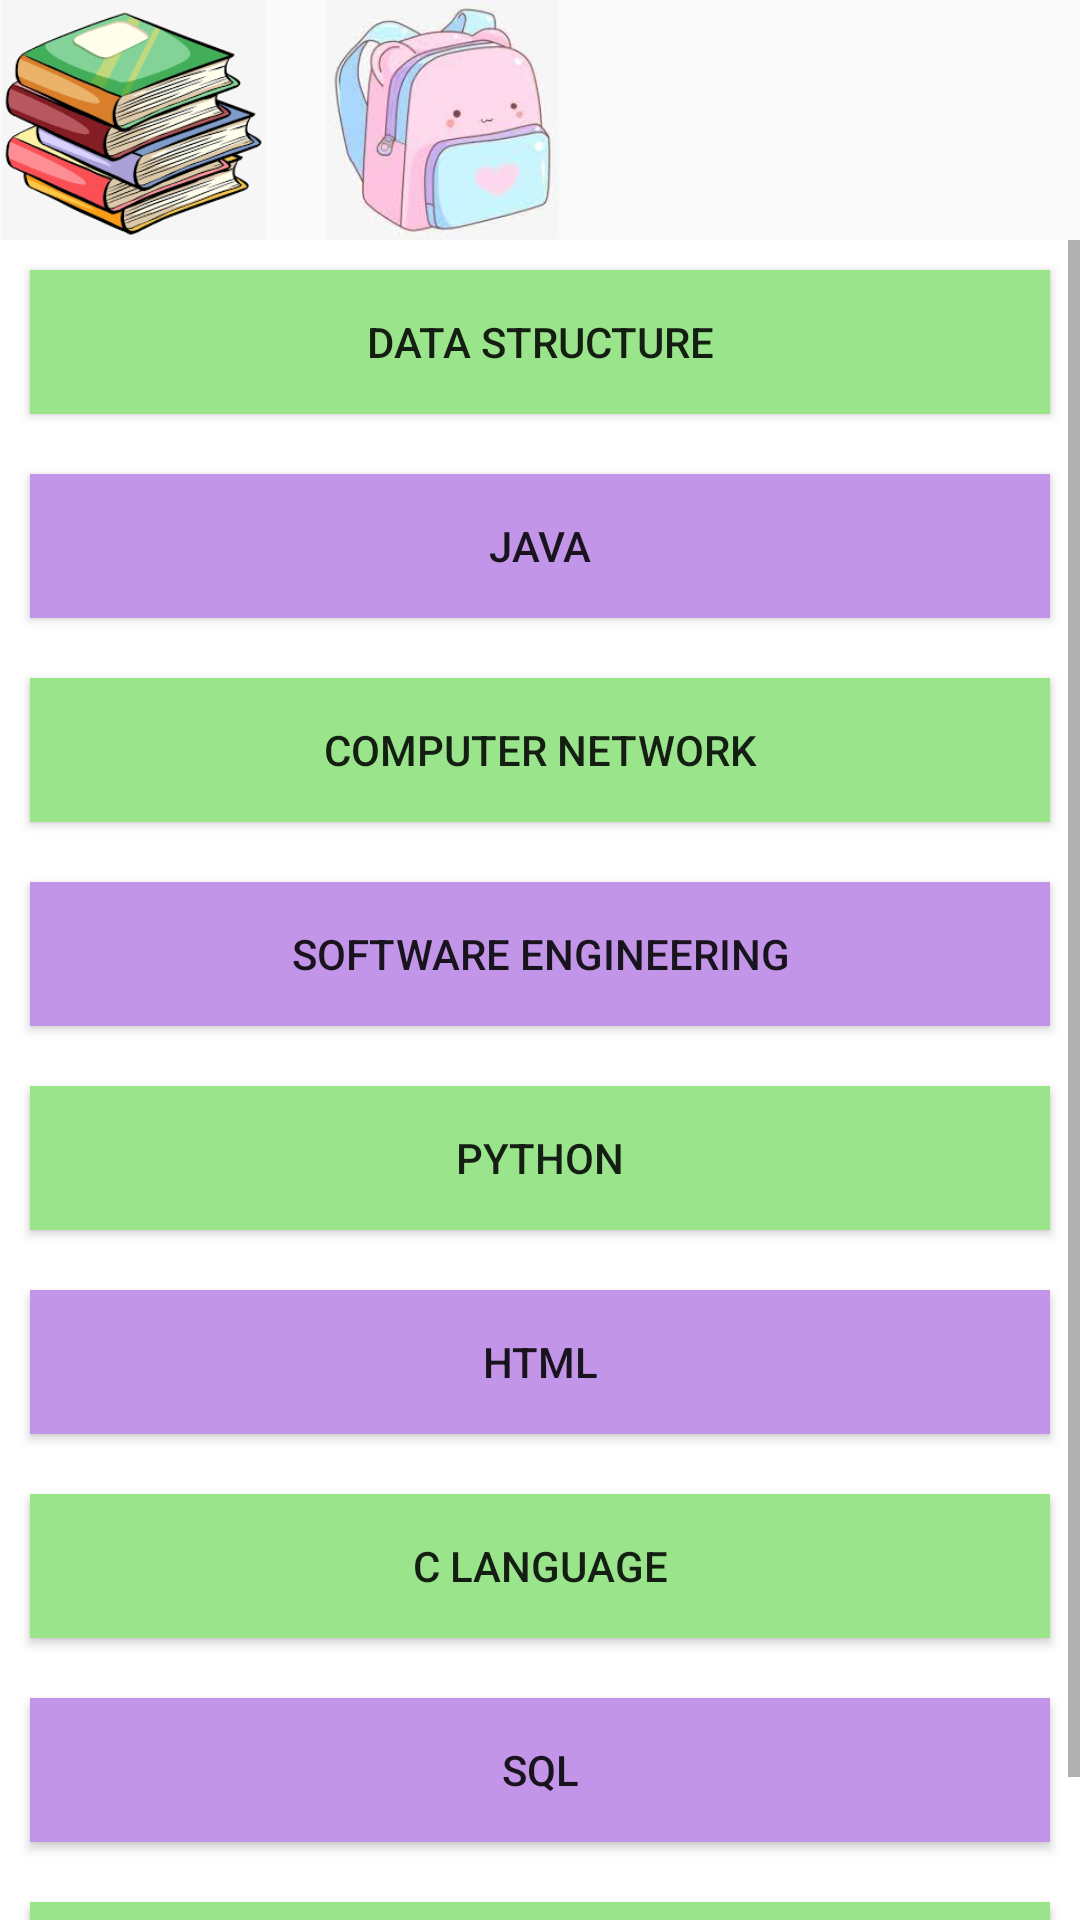

Icons on this 1080px x 1920px Android screen, each with its box as (x1, y1, x2, y2):
bag: (334, 8, 551, 232)
books: (5, 12, 262, 235)
